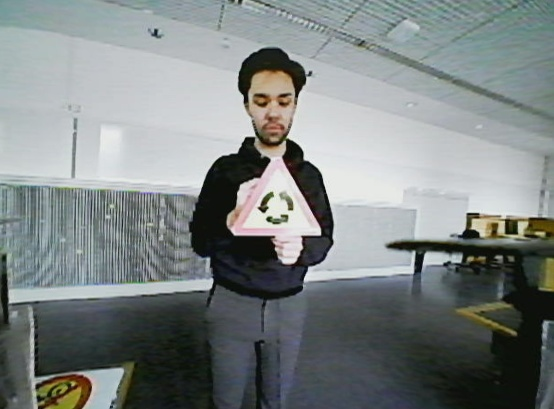roundabout_warning: (220, 149, 329, 243)
